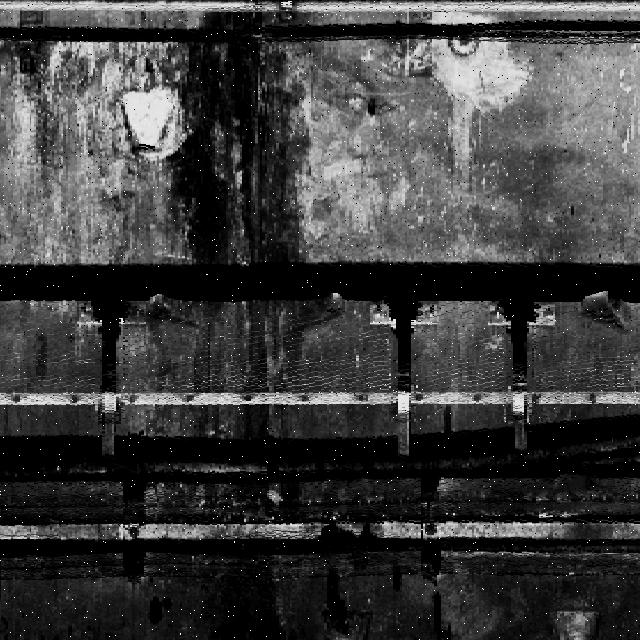leakage: (157, 0, 336, 634)
